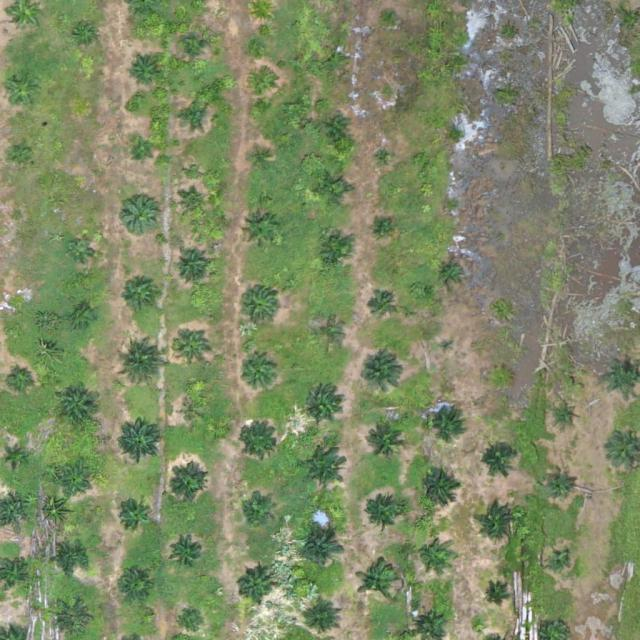Grass: (73, 307, 96, 331)
Healthy: (356, 560, 403, 607)
Small: (361, 496, 408, 544), (301, 445, 348, 493), (359, 353, 406, 401), (364, 417, 411, 465), (116, 342, 163, 389), (117, 413, 164, 460), (299, 528, 346, 575), (167, 465, 207, 505), (170, 532, 210, 572), (120, 194, 159, 234), (121, 273, 160, 313), (480, 440, 519, 480), (306, 385, 345, 425), (316, 232, 355, 272), (174, 327, 213, 367), (54, 600, 93, 640), (237, 569, 276, 609), (316, 170, 355, 210), (57, 388, 96, 427), (2, 72, 41, 111), (481, 503, 520, 542), (427, 402, 466, 441), (172, 247, 211, 286), (241, 422, 280, 461), (420, 469, 459, 508), (241, 212, 280, 251), (240, 287, 279, 326), (242, 356, 281, 395), (58, 467, 89, 499), (118, 499, 149, 531), (128, 57, 159, 89), (176, 101, 207, 133), (120, 570, 151, 602), (178, 606, 209, 638), (367, 291, 398, 323), (55, 544, 86, 575), (418, 538, 449, 569), (242, 496, 273, 527), (545, 468, 576, 499), (314, 319, 345, 350), (438, 258, 469, 289), (176, 190, 207, 221), (179, 35, 210, 66), (555, 404, 579, 428), (549, 553, 573, 577), (490, 367, 514, 391), (374, 147, 398, 171), (327, 117, 351, 141), (252, 75, 276, 99), (251, 150, 275, 174), (324, 49, 348, 73), (74, 25, 98, 49), (7, 297, 31, 321), (483, 585, 506, 609), (183, 400, 206, 424), (2, 446, 25, 470), (10, 369, 34, 392), (131, 140, 154, 164), (11, 144, 34, 167), (70, 238, 93, 261), (375, 219, 391, 235), (383, 7, 398, 23), (440, 338, 456, 353)
